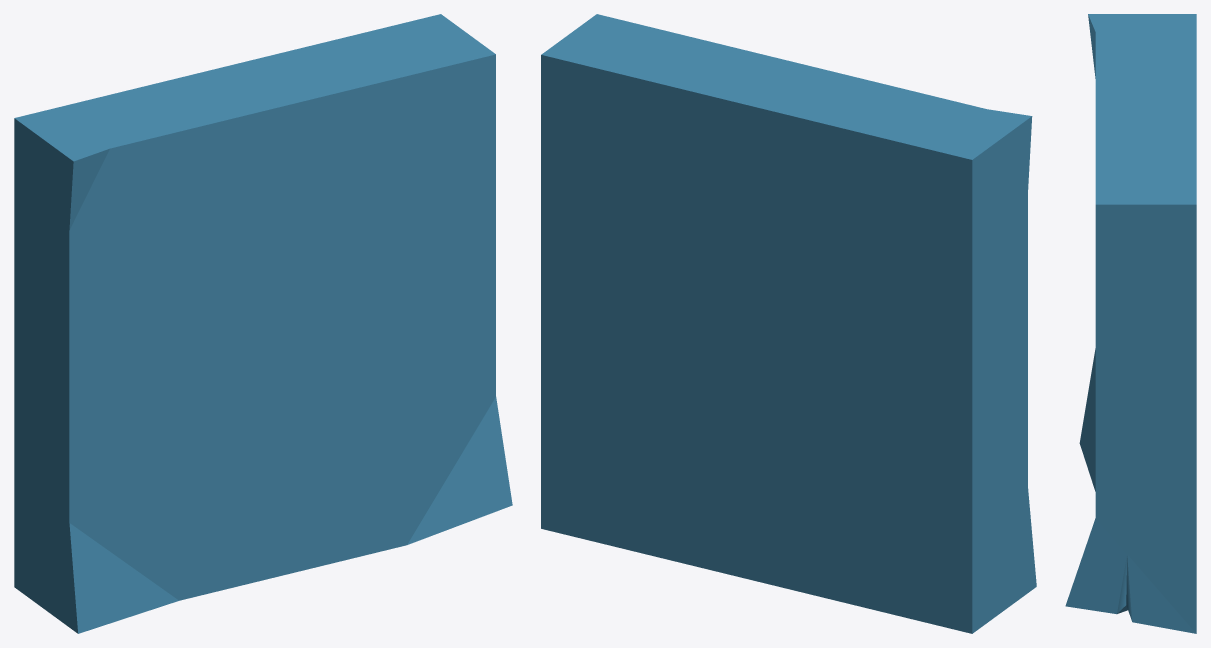
File: Sticky_Note.fbx
The picture shows the model from 3 angles, left to right: view 1: azimuth 30°, elevation 25°; view 2: azimuth 150°, elevation 25°; view 3: azimuth 270°, elevation 25°; orthographic projection. The views are drawn at different scales.
Parts seen in each view (by area): view 1: Sticky_Note; view 2: Sticky_Note; view 3: Sticky_Note.
Part boxes in pixels (<box>): Sticky_Note: <box>14,14,512,633</box>; Sticky_Note: <box>541,14,1036,633</box>; Sticky_Note: <box>1065,14,1196,633</box>.
Size of the model in its own units: 0.1101 by 0.032 by 0.1154.
